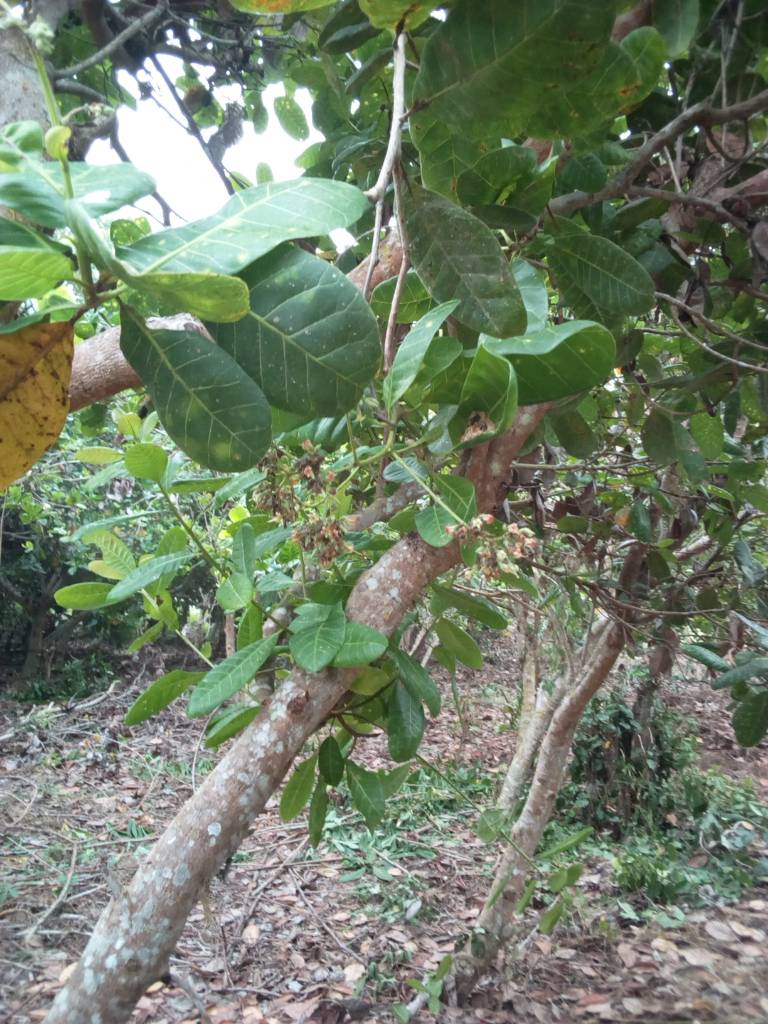Alternariose: (205, 244, 382, 419), (122, 317, 271, 471), (1, 317, 77, 494)
